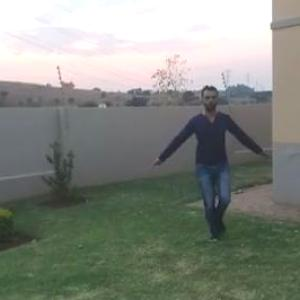land: (151, 85, 261, 226)
